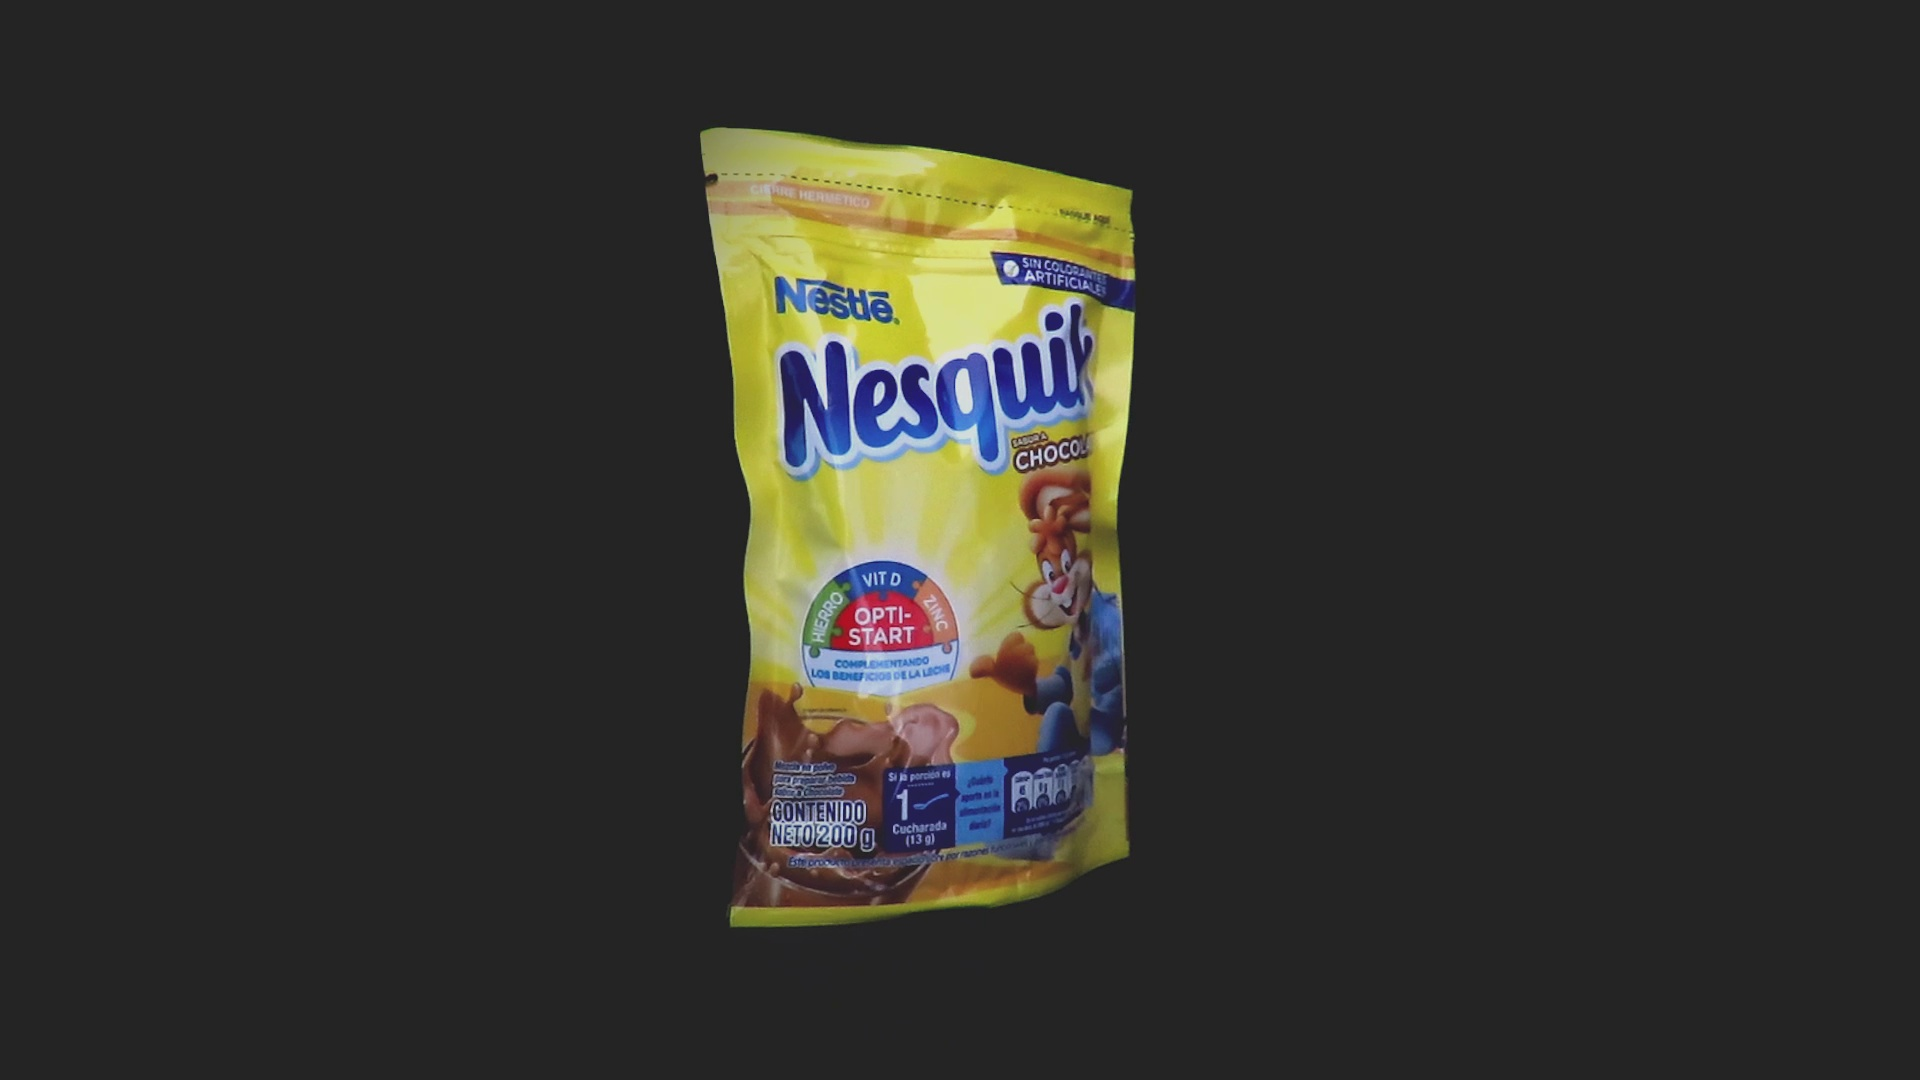COL0170303DYP20000: (695, 123, 1141, 934)
